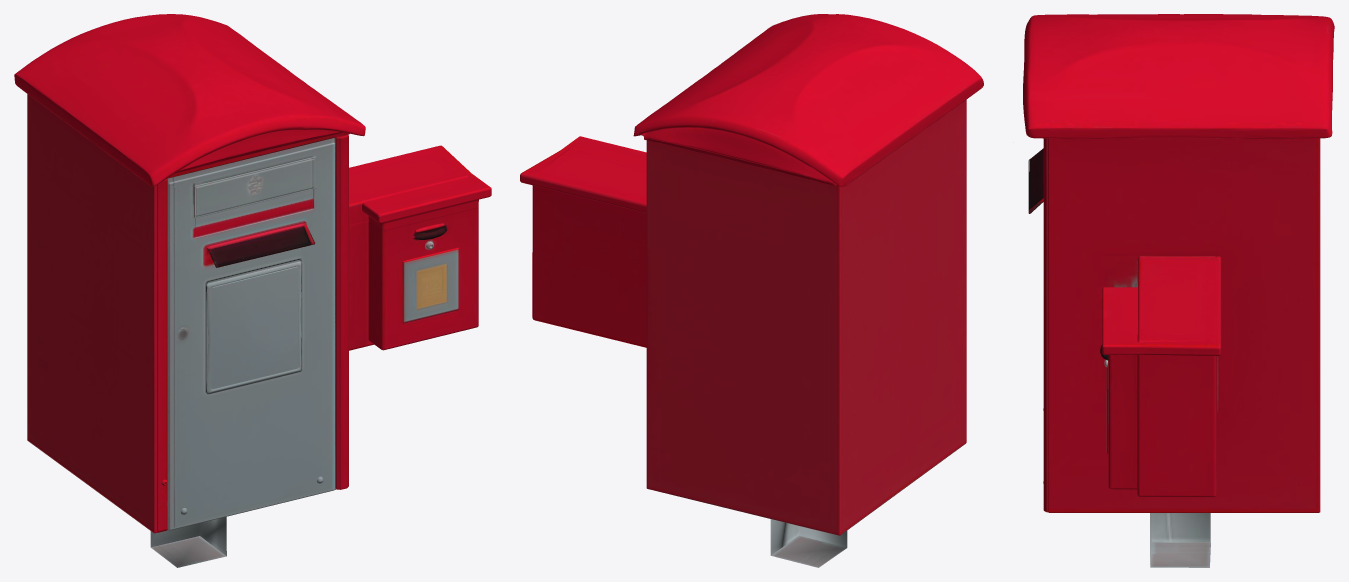
The model's file is toonstudio_mailbox.glb.
3 renders of one model, left to right at view 1: azimuth 30°, elevation 25°; view 2: azimuth 150°, elevation 25°; view 3: azimuth 270°, elevation 25°, orthographic. The views are drawn at different scales.
Parts seen in each view (by area): view 1: tripo_98ddc8f3_db5b_48b4_aeeb_80e48ef94c4e; view 2: tripo_98ddc8f3_db5b_48b4_aeeb_80e48ef94c4e; view 3: tripo_98ddc8f3_db5b_48b4_aeeb_80e48ef94c4e.
Boxes of the visible parts, box(x1,y1,x2,y2) form: tripo_98ddc8f3_db5b_48b4_aeeb_80e48ef94c4e: box(14, 14, 491, 567); tripo_98ddc8f3_db5b_48b4_aeeb_80e48ef94c4e: box(520, 14, 983, 567); tripo_98ddc8f3_db5b_48b4_aeeb_80e48ef94c4e: box(1023, 14, 1334, 567).
Bounding box in the file's own units: 1.13 × 1.4 × 0.7776.
Materials: 1 (1 with a texture image).
